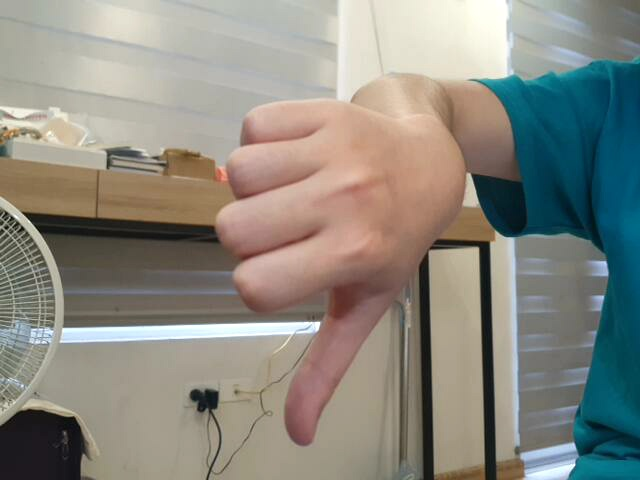ThumbsDown: (210, 95, 458, 452)
